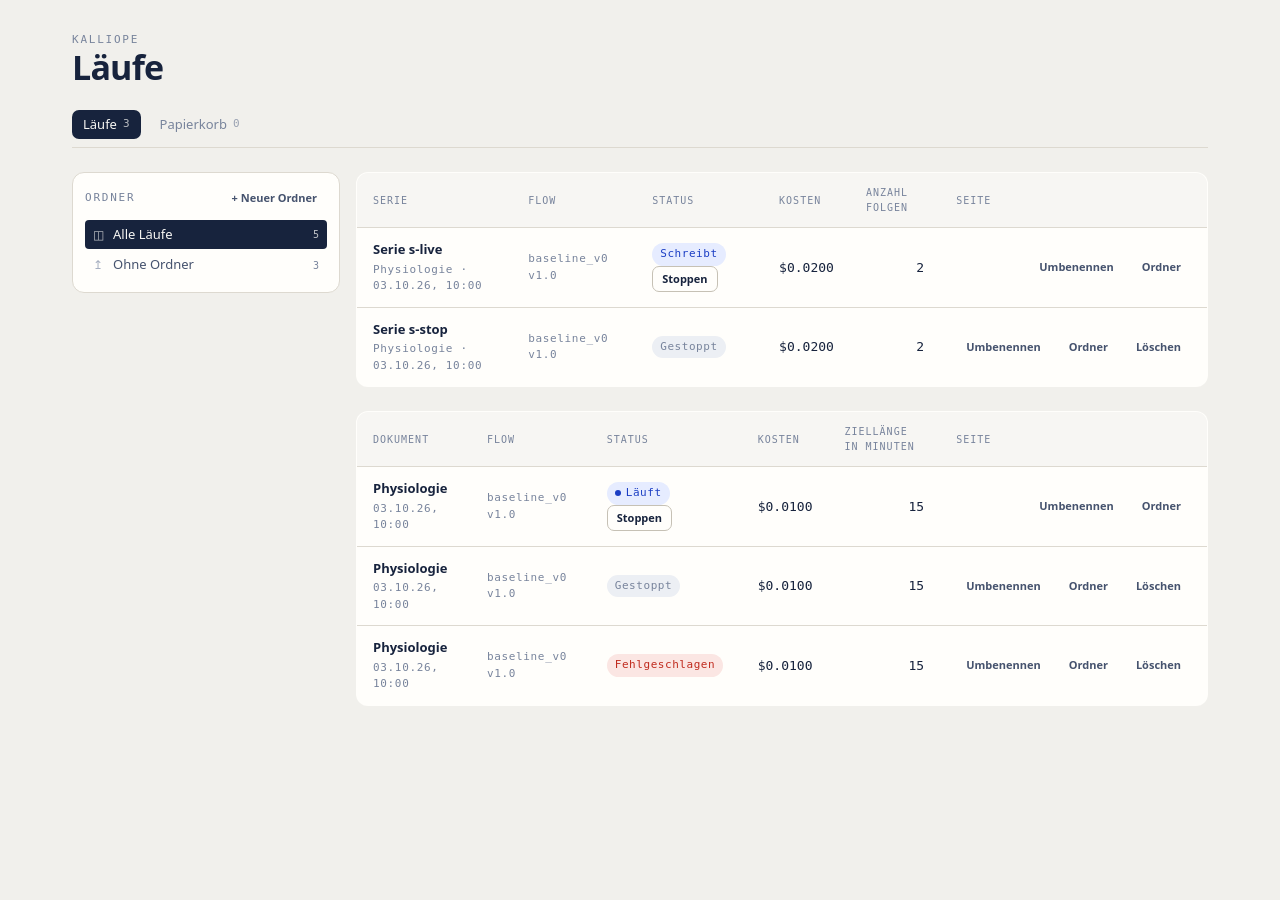
Test: runs list › shows rejected run stop errors and allows retry
Click the button "Stoppen" below "Läuft" at [639, 518], box [607,505,672,531]
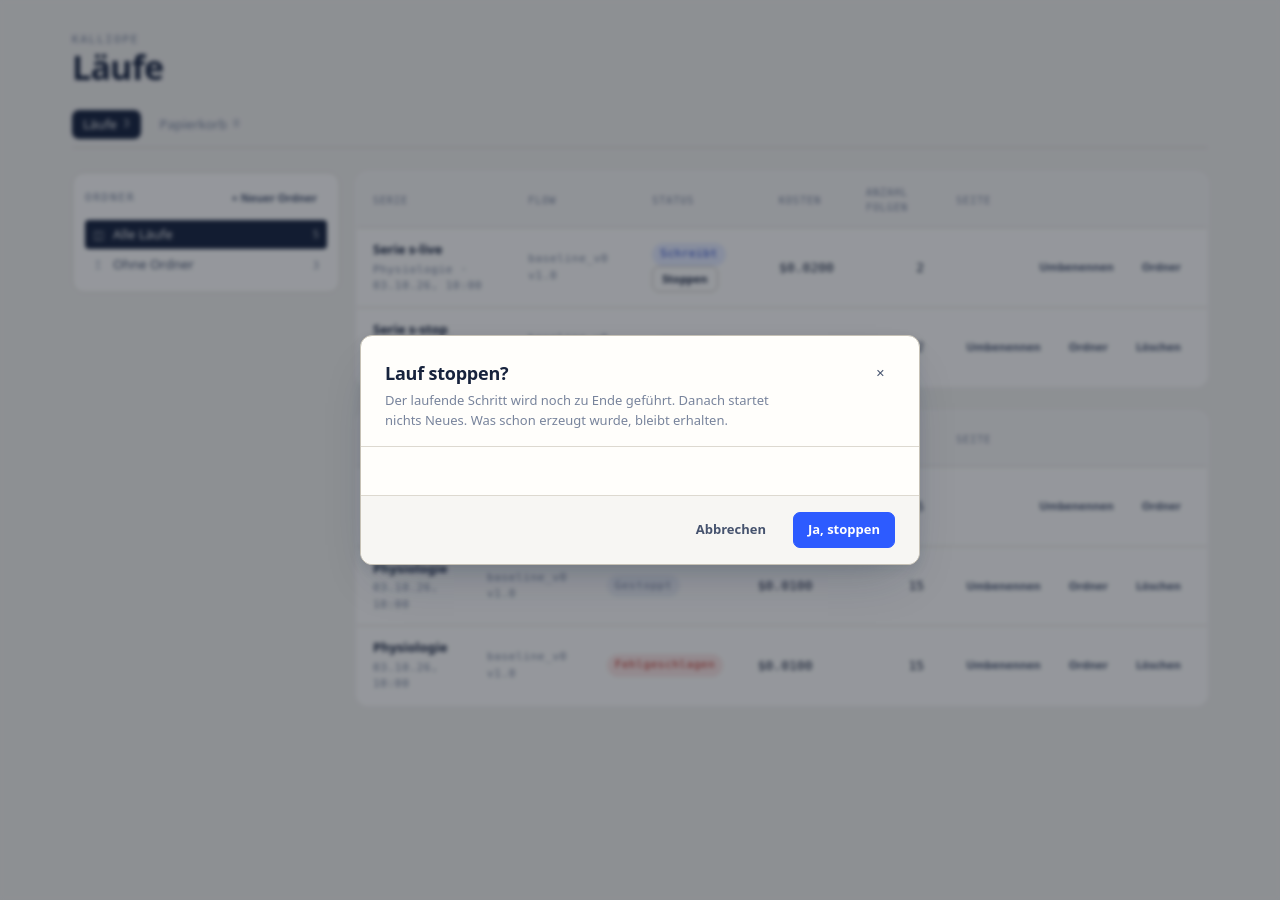
Click the button "Ja, stoppen" at [844, 530], box [793,512,895,548]
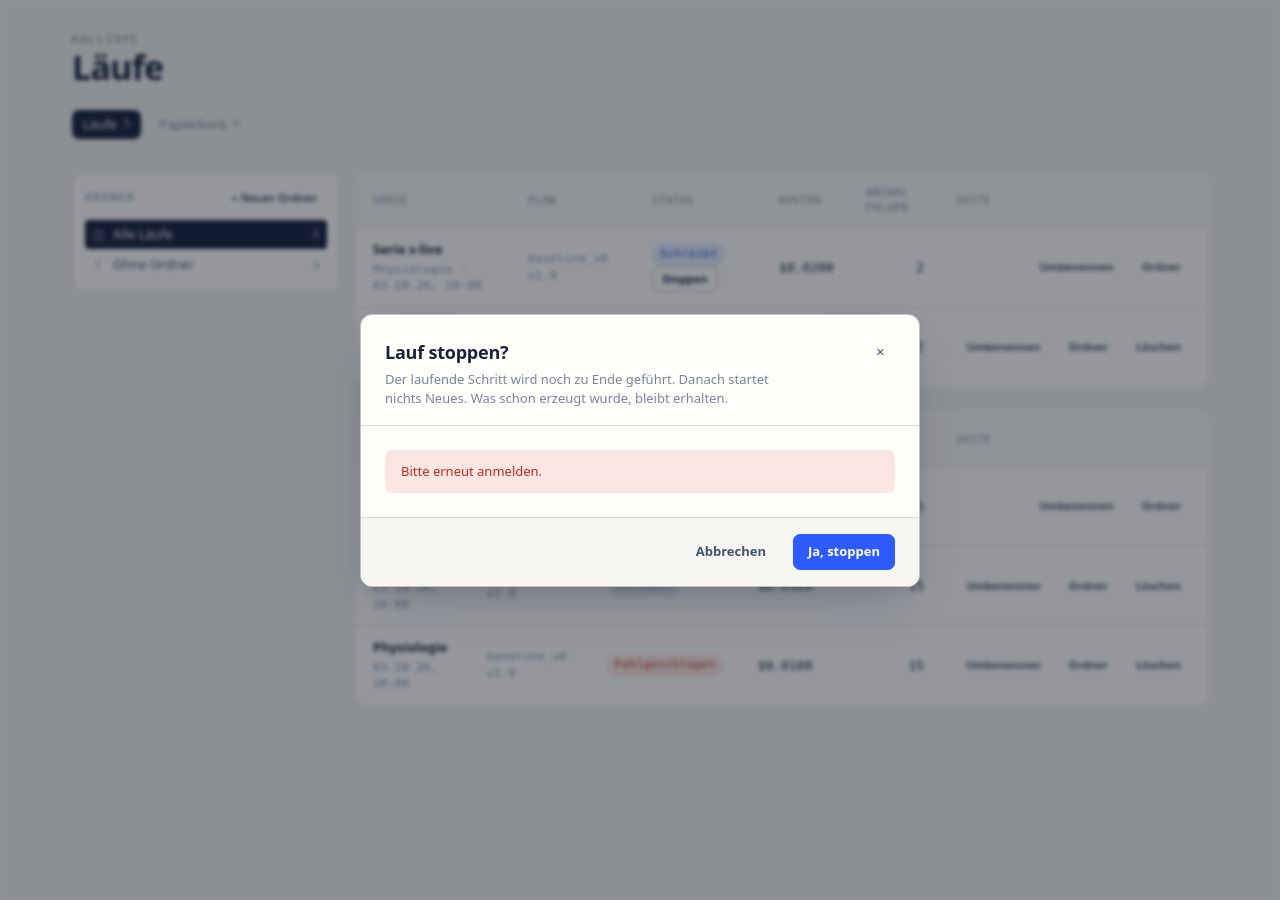
Now the button "Ja, stoppen" is enabled
Now the message "Bitte erneut anmelden." is shown, box [385,450,895,493]
Click the button "Ja, stoppen" at [844, 552], box [793,534,895,570]
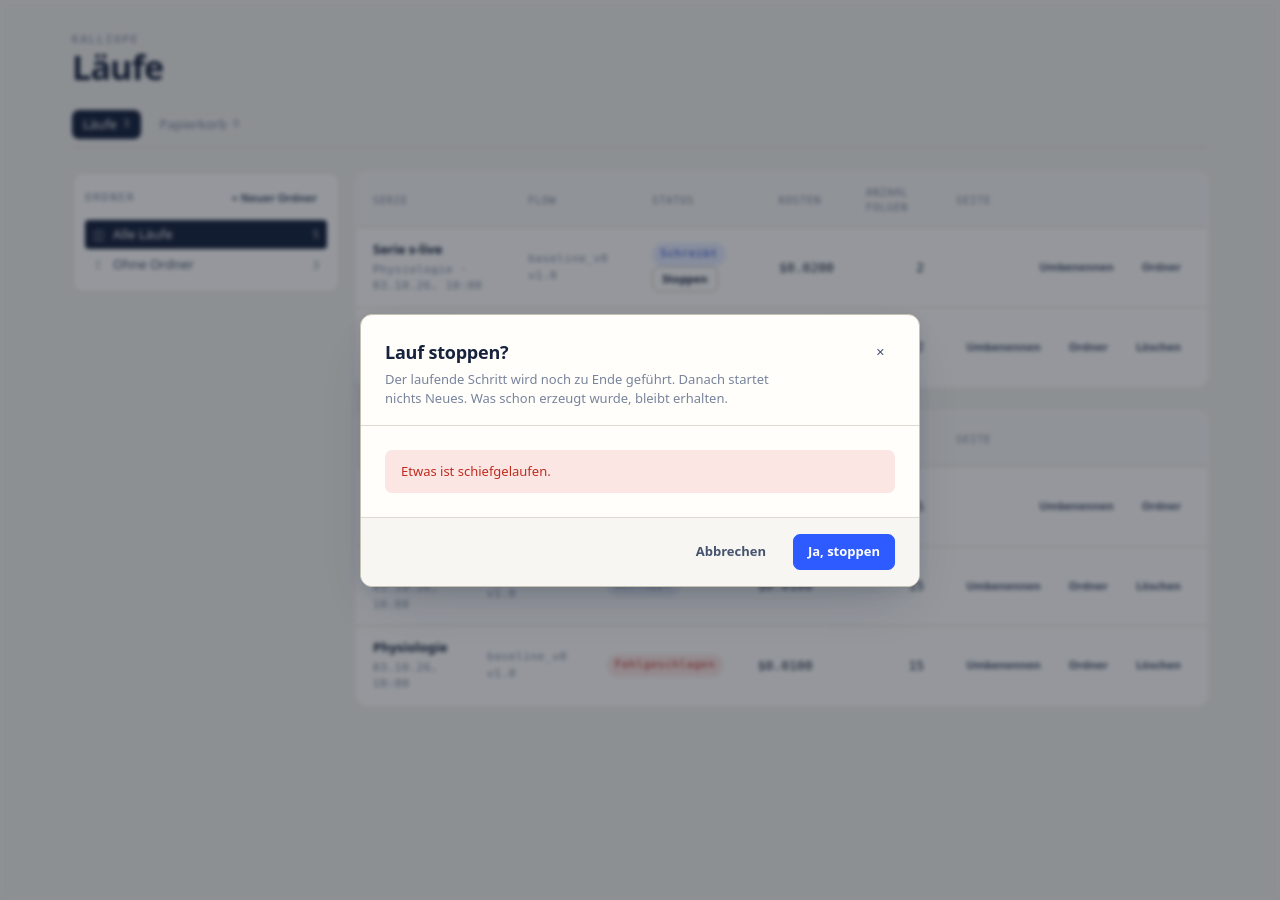
Now the message "Etwas ist schiefgelaufen." is shown, box [385,450,895,493]
Click the button "Ja, stoppen" at [844, 552], box [793,534,895,570]
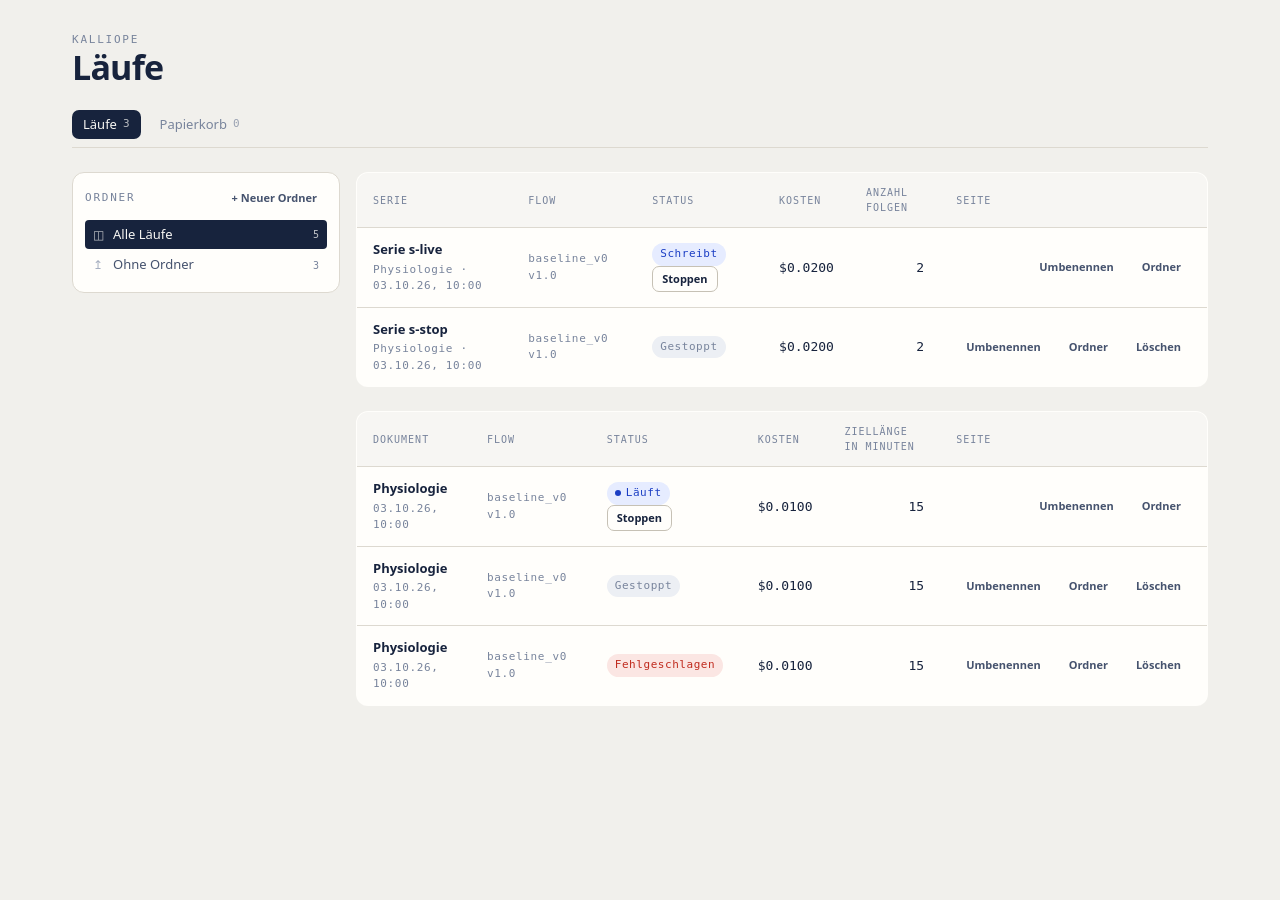
Now the dialog is gone
